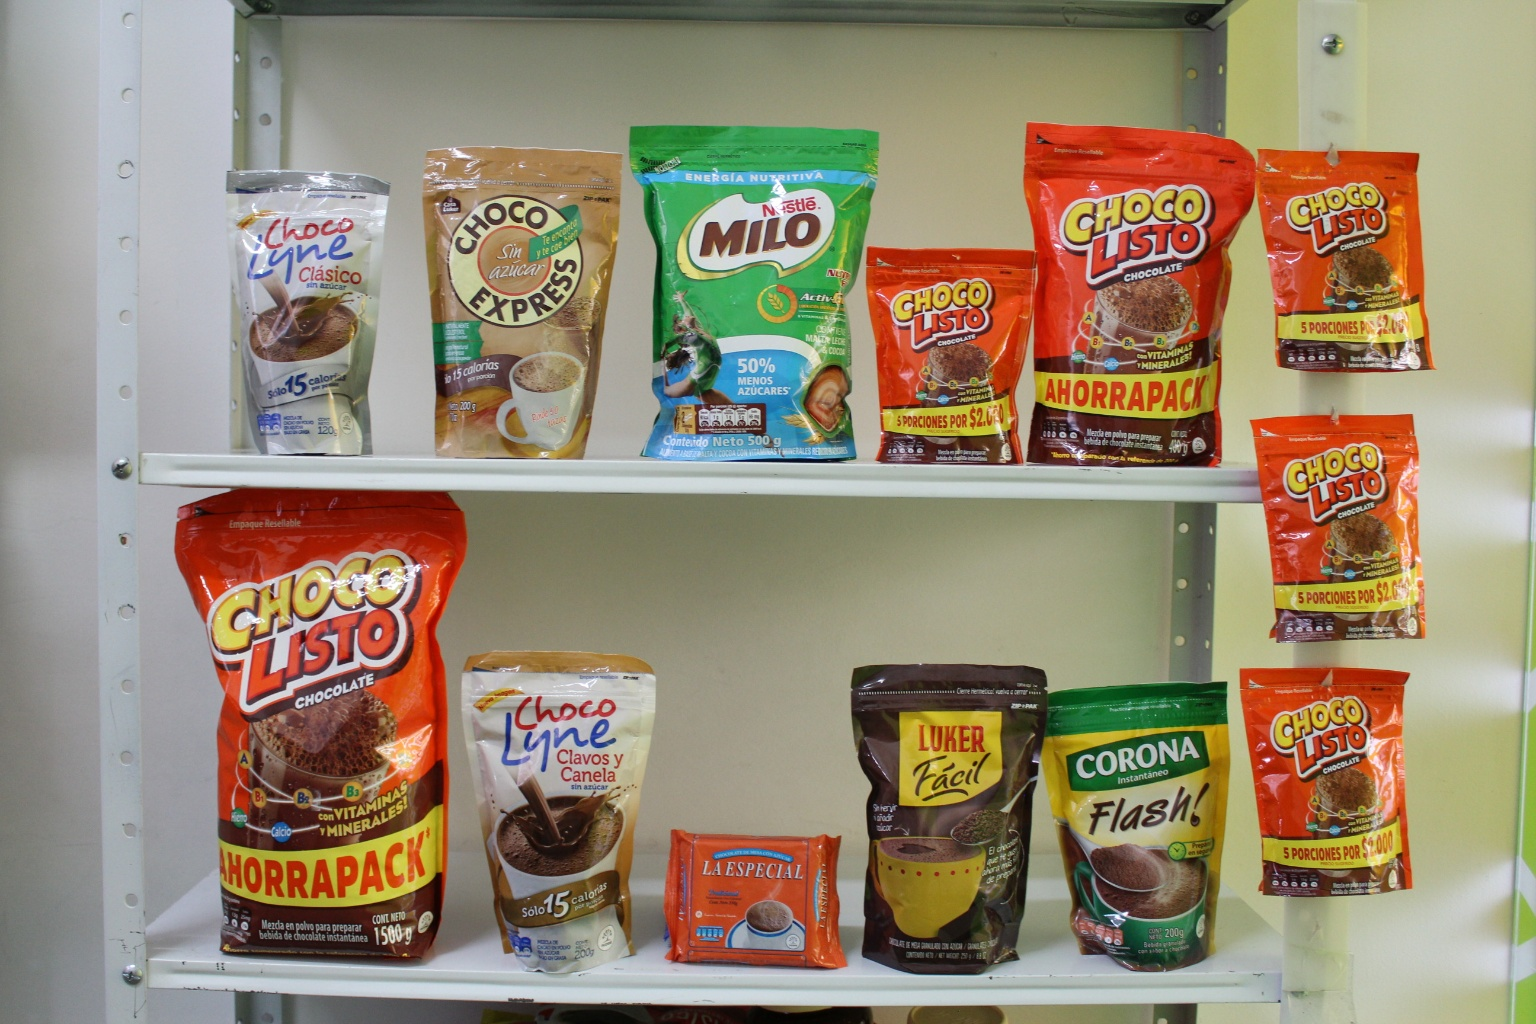COL0170103DYP1,500: (161, 482, 471, 982)
COL0170103DYP10000: (1247, 666, 1417, 891)
COL0170103DYP40000: (1021, 118, 1269, 472)
COL0170205DYP50000: (635, 117, 873, 458)
